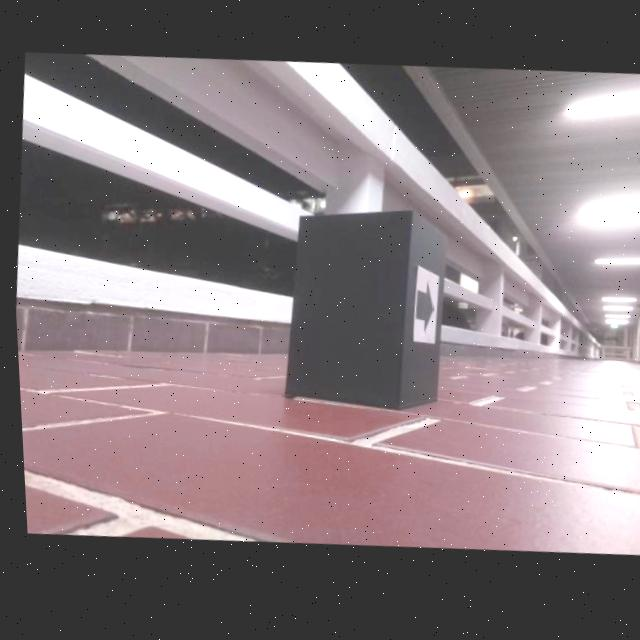RIGHT: (413, 287, 429, 335)
